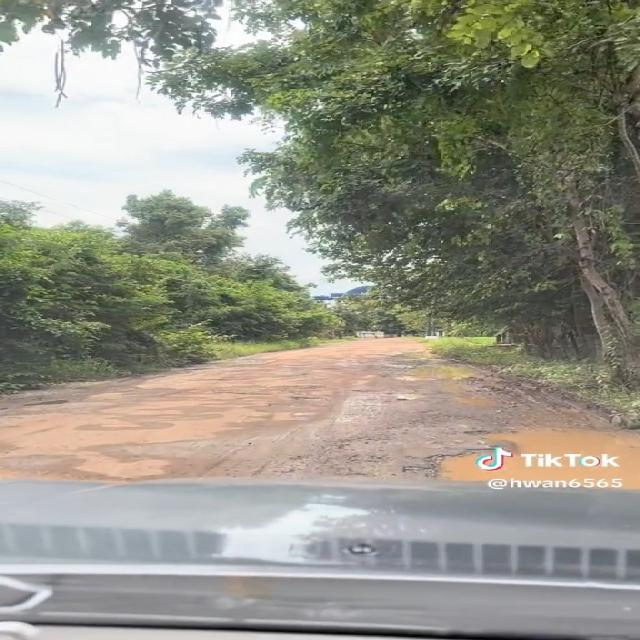Poth-hole: (178, 414, 368, 470)
